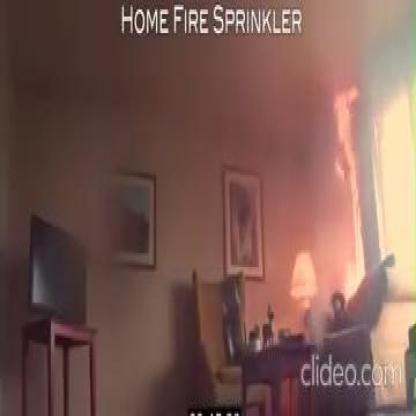fire: (328, 80, 366, 293)
